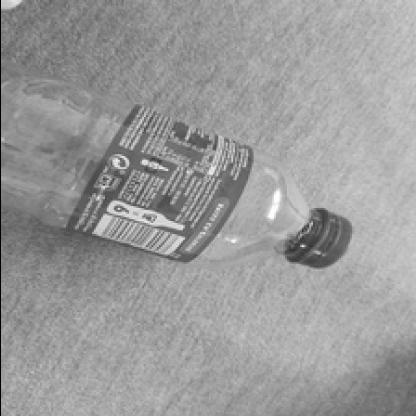plastic_bottles: (1, 54, 358, 282)
